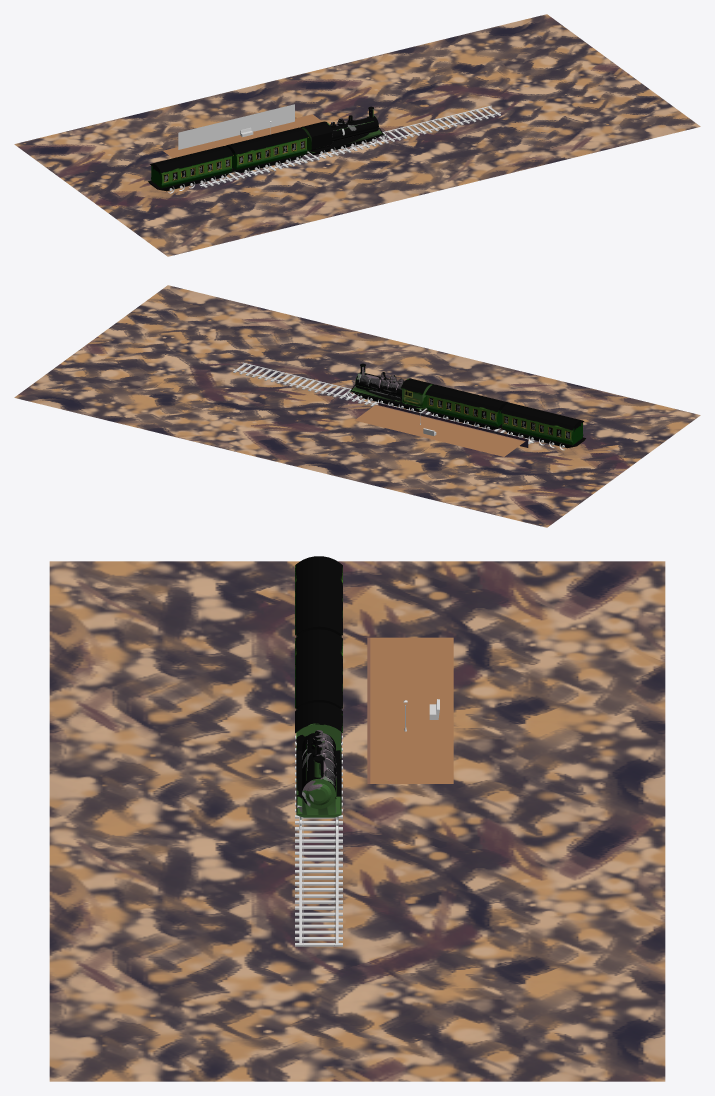
The model's file is station 1.glb.
3 views of the same model, one above another, from view 1: azimuth 30°, elevation 25°; view 2: azimuth 150°, elevation 25°; view 3: azimuth 270°, elevation 25° (orthographic). The views are drawn at different scales.
Visible parts, largest first — view 1: Plane (×2), Carriage-body-col (×2), Engine-col, track (×2), platform (×2); view 2: Plane (×2), Carriage-body-col (×2), platform (×2), Engine-col, track; view 3: Plane (×2), platform (×2), Carriage-body-col (×2), Engine-col, track.
Part boxes in pixels (left/top/right/bottom): Plane (×2): left=14, top=14, right=700, bottom=256; Carriage-body-col (×2): left=148, top=127, right=308, bottom=191; Engine-col: left=300, top=106, right=384, bottom=155; track (×2): left=200, top=105, right=501, bottom=187; platform (×2): left=163, top=114, right=322, bottom=158; Plane (×2): left=14, top=285, right=700, bottom=527; Carriage-body-col (×2): left=425, top=384, right=585, bottom=448; platform (×2): left=354, top=403, right=528, bottom=456; Engine-col: left=349, top=363, right=433, bottom=411; track: left=233, top=362, right=384, bottom=406; Plane (×2): left=49, top=561, right=665, bottom=1081; platform (×2): left=367, top=637, right=453, bottom=783; Carriage-body-col (×2): left=295, top=556, right=342, bottom=742; Engine-col: left=295, top=702, right=342, bottom=817; track: left=295, top=802, right=342, bottom=946.
Size of the model in its own units: 128 by 7.7 by 64.
6 materials, 6 textured.
